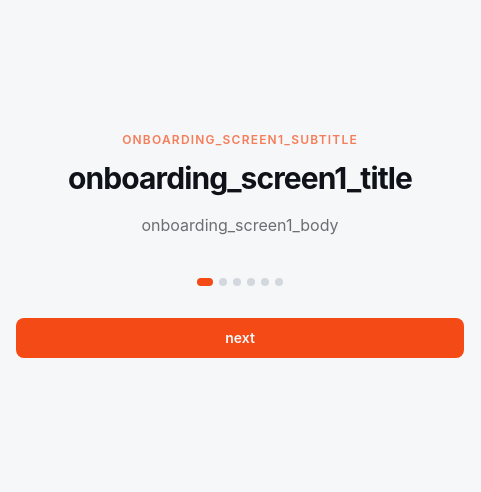
Scenario: OnboardingPage › surfaces PKCE setup failures before leaving for OpenRouter
Step 1. Click the button named "Go to screen 6" → (279, 282), box [275,278,283,286]
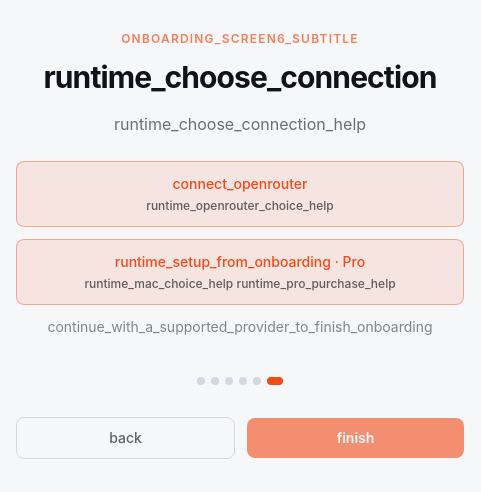
Step 2. Click the button "connect_openrouter" → (240, 194), box [16,161,464,227]
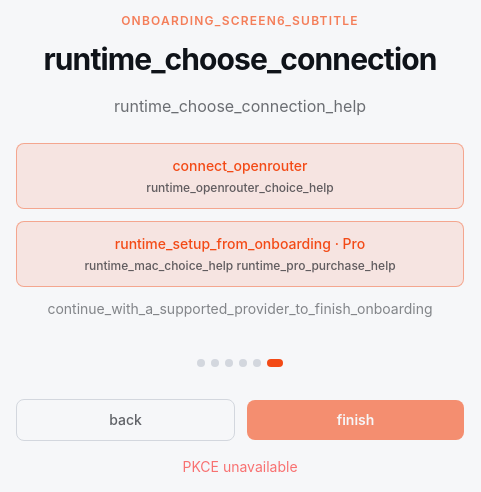
Expected: the text "PKCE unavailable" is shown, [182,458,298,475]
